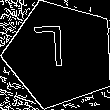L_S: (43, 29, 77, 80)
